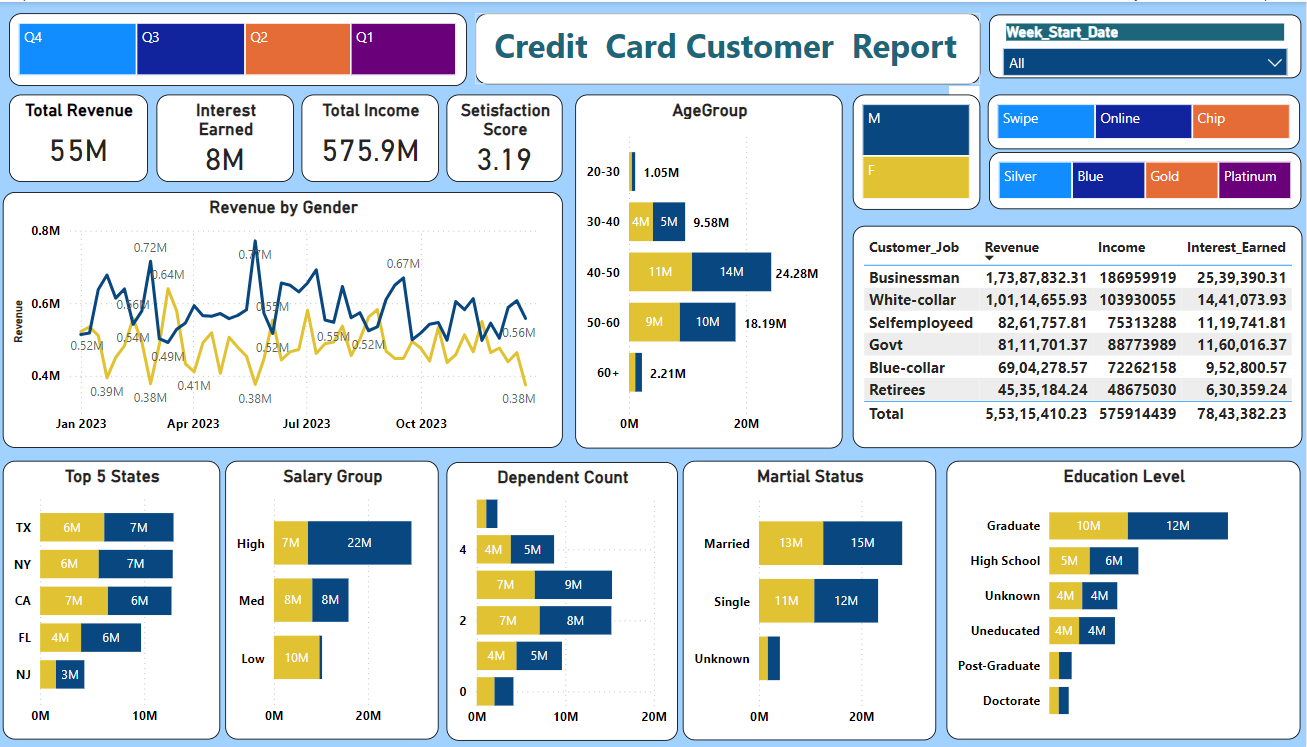

The page's visual inventory and layout, read from the dashboard file:
{"tool":"powerbi","page":{"name":"CC Customer","canvas":[1280,730],"ordinal":1},"visuals":[{"type":"textbox","box":[466,11,494.2,69.7],"z":0},{"type":"barChart","title":"Top 5 States","fields":{"Category":["customer.state_cd"],"Y":["Sum(credit_card.Revenue)"],"Series":["customer.Gender"]},"box":[3.7,448.9,212.8,272.8],"z":1000},{"type":"tableEx","fields":{"Values":["customer.Customer_Job","Sum(credit_card.Revenue)","Sum(customer.Income)","Sum(credit_card.Interest_Earned)"]},"box":[835.4,219,440.4,217.7],"z":2000},{"type":"slicer","fields":{"Values":["credit_card.Week_Start_Date"]},"box":[968.8,12.2,305.8,62.4],"z":3000},{"type":"treemap","fields":{"Group":["credit_card.Qtr"],"Values":["Avg(credit_card.Client_Num)"]},"box":[9.8,11,447.7,70.9],"z":4000},{"type":"treemap","fields":{"Group":["credit_card.Card_Category"],"Values":["Avg(credit_card.Client_Num)"]},"box":[968.8,146.8,305.8,56.3],"z":5000},{"type":"card","title":"Total Revenue","fields":{"Values":["Sum(credit_card.Revenue)"]},"box":[9.8,90.5,135.8,85.6],"z":6000},{"type":"card","title":"Total Income","fields":{"Values":["Sum(customer.Income)"]},"box":[296,90.5,134.6,85.6],"z":7000},{"type":"card","title":"Interest Earned","fields":{"Values":["Sum(credit_card.Interest_Earned)"]},"box":[154.1,90.5,134.6,85.6],"z":8000},{"type":"card","title":"Setisfaction Score","fields":{"Values":["Avg(customer.Cust_Satisfaction_Score)"]},"box":[437.9,90.5,113.8,85.6],"z":9000},{"type":"lineChart","title":"Revenue by Gender","fields":{"Y":["Sum(credit_card.Revenue)"],"Series":["customer.Gender"],"Category":["credit_card.Week_Start_Date.Variation.Date Hierarchy.Year","credit_card.Week_Start_Date.Variation.Date Hierarchy.Month","credit_card.Week_Start_Date.Variation.Date Hierarchy.Day"]},"box":[3.7,185.9,548,250.8],"z":10000},{"type":"treemap","fields":{"Group":["customer.Gender"],"Values":["Sum(credit_card.Revenue)"]},"box":[835.4,90.5,124.8,112.5],"z":11000},{"type":"barChart","title":"AgeGroup","fields":{"Y":["Sum(credit_card.Revenue)"],"Category":["customer.AgeGroup"],"Series":["customer.Gender"]},"box":[563.9,90.5,261.8,346.2],"z":12000},{"type":"barChart","title":"Dependent Count","fields":{"Y":["Sum(credit_card.Revenue)"],"Category":["customer.Dependent_Count"],"Series":["customer.Gender"]},"box":[437.9,450.1,226.3,272.8],"z":13000},{"type":"barChart","title":"Education Level","fields":{"Y":["Sum(credit_card.Revenue)"],"Category":["customer.Education_Level"],"Series":["customer.Gender"]},"box":[927.2,448.9,346.2,272.8],"z":14000},{"type":"barChart","title":"Martial Status","fields":{"Y":["Sum(credit_card.Revenue)"],"Category":["customer.Marital_Status"],"Series":["customer.Gender"]},"box":[669.1,448.9,248.3,274],"z":16000},{"type":"treemap","fields":{"Group":["credit_card.Use Chip"],"Values":["Avg(credit_card.Client_Num)"]},"box":[967.5,90.5,305.8,53.8],"z":17000},{"type":"barChart","title":"Salary Group","fields":{"Y":["Sum(credit_card.Revenue)"],"Category":["customer.IncomeGroup"],"Series":["customer.Gender"]},"box":[221.4,448.9,209.2,272.8],"z":17001}]}

Visuals, with their boxes in screenshot pixels (x1, y1, x2, y2), scaled from the page's 1280x730 canvas onto the 1307x747 screenshot:
textbox: region(476, 11, 980, 83)
"Top 5 States" barChart: region(4, 459, 221, 739)
tableEx - customer.Customer_Job x Sum(credit_card.Revenue): region(853, 224, 1303, 447)
slicer - credit_card.Week_Start_Date: region(989, 12, 1301, 76)
treemap - credit_card.Qtr x Avg(credit_card.Client_Num): region(10, 11, 467, 84)
treemap - credit_card.Card_Category x Avg(credit_card.Client_Num): region(989, 150, 1301, 208)
"Total Revenue" card: region(10, 93, 149, 180)
"Total Income" card: region(302, 93, 440, 180)
"Interest Earned" card: region(157, 93, 295, 180)
"Setisfaction Score" card: region(447, 93, 563, 180)
"Revenue by Gender" lineChart: region(4, 190, 563, 447)
treemap - customer.Gender x Sum(credit_card.Revenue): region(853, 93, 980, 208)
"AgeGroup" barChart: region(576, 93, 843, 447)
"Dependent Count" barChart: region(447, 461, 678, 740)
"Education Level" barChart: region(947, 459, 1300, 739)
"Martial Status" barChart: region(683, 459, 937, 740)
treemap - credit_card.Use Chip x Avg(credit_card.Client_Num): region(988, 93, 1300, 148)
"Salary Group" barChart: region(226, 459, 440, 739)
